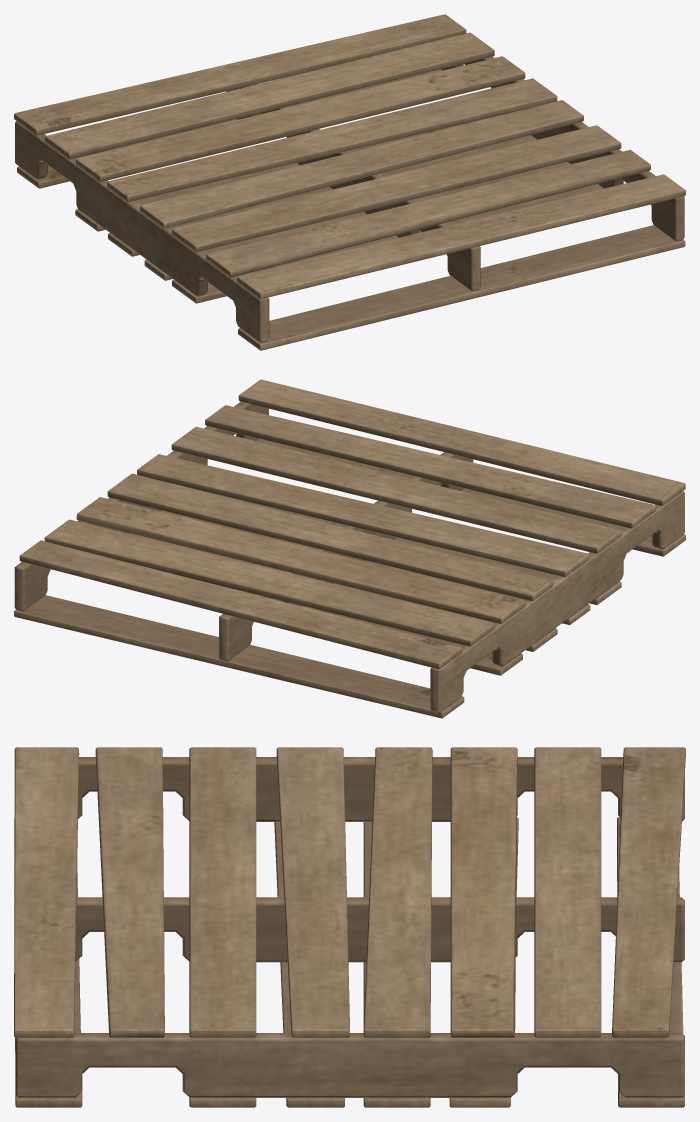
File: pallet.glb
3 renders of one model, top to bottom at view 1: azimuth 30°, elevation 25°; view 2: azimuth 150°, elevation 25°; view 3: azimuth 270°, elevation 25°, orthographic. The views are drawn at different scales.
Parts seen in each view (by area): view 1: pallet; view 2: pallet; view 3: pallet.
Part boxes in pixels (box(x1,y1,x2,y2)): pallet: box(14, 14, 685, 350); pallet: box(14, 379, 685, 718); pallet: box(14, 747, 685, 1107).
Size of the model in its own units: 1.22 by 0.158 by 1.22.
1 material, 1 textured.
